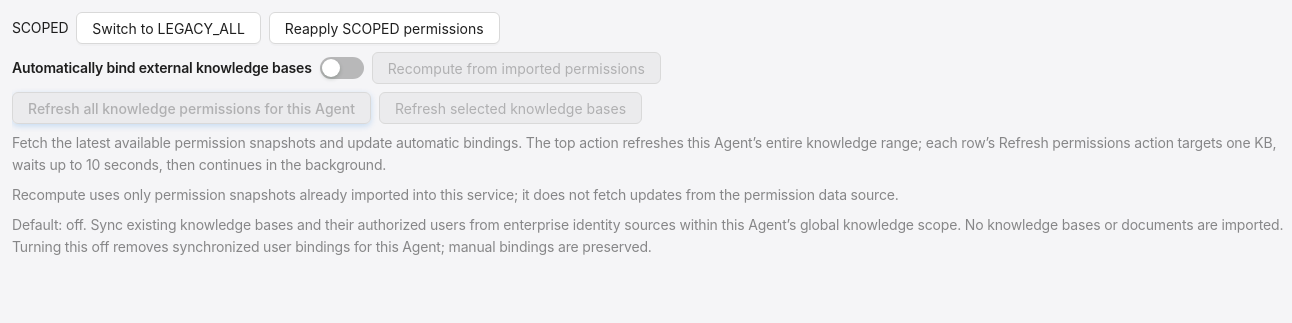
Scenario: External knowledge auto-binding switch › preserves the saved state on failure and prevents duplicate in-flight saves
The image size is (1292, 323).
Click the switch named "Automatically bind external knowledge bases" at [342, 68], box [320, 57, 364, 79]
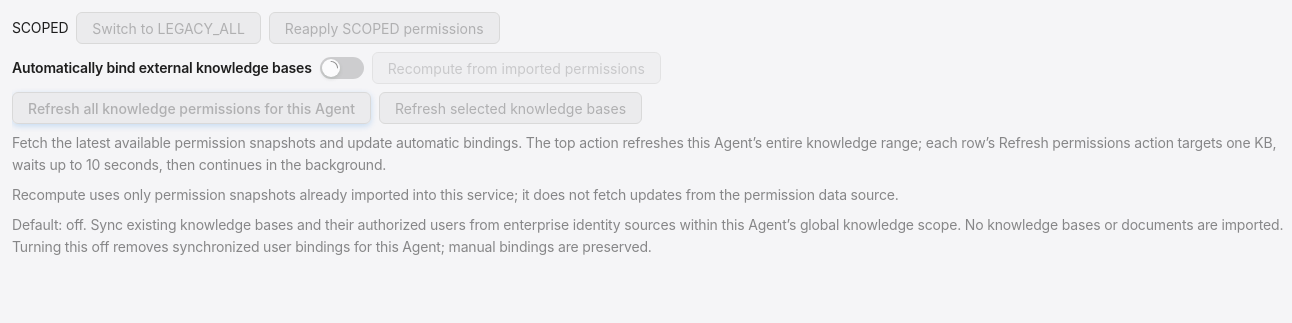
Check: the switch named "Automatically bind external knowledge bases" is disabled
Click the switch named "Automatically bind external knowledge bases" at [342, 68], box [320, 57, 364, 79]
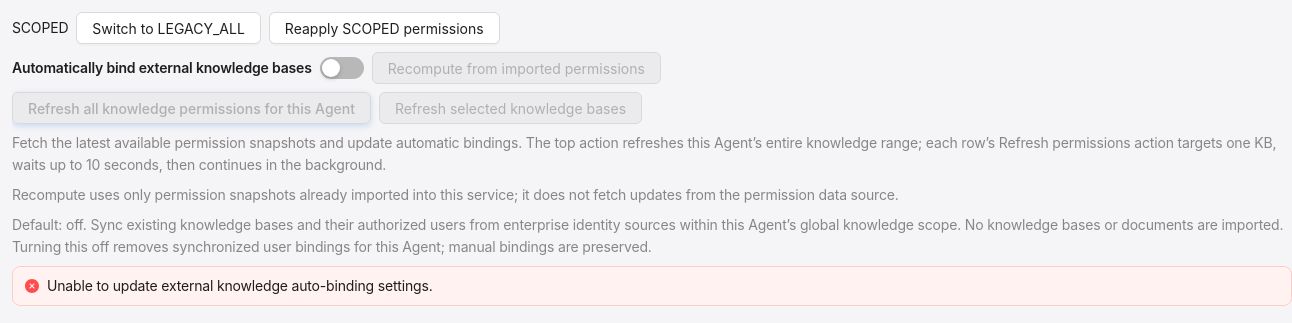
Check: the message "Unable to update external knowledge auto-binding settings." is shown, box [12, 266, 1291, 306]
Check: the switch named "Automatically bind external knowledge bases" is enabled, box [320, 57, 364, 79]
